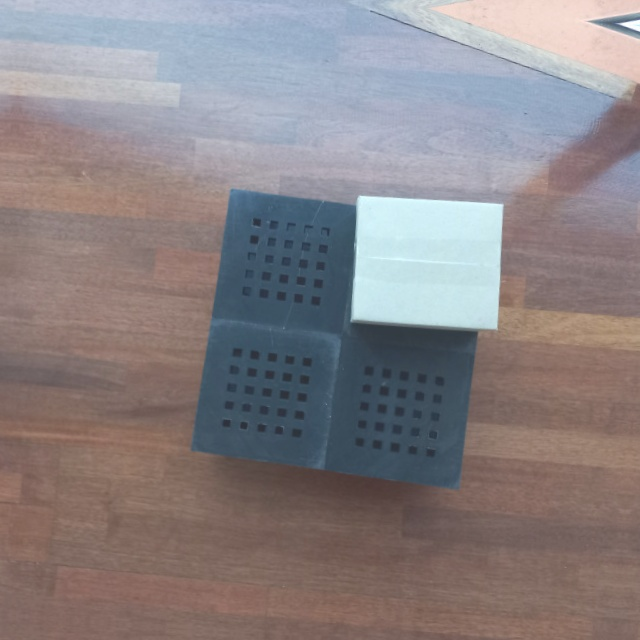box: (347, 191, 507, 336)
pallet: (183, 179, 502, 497)
